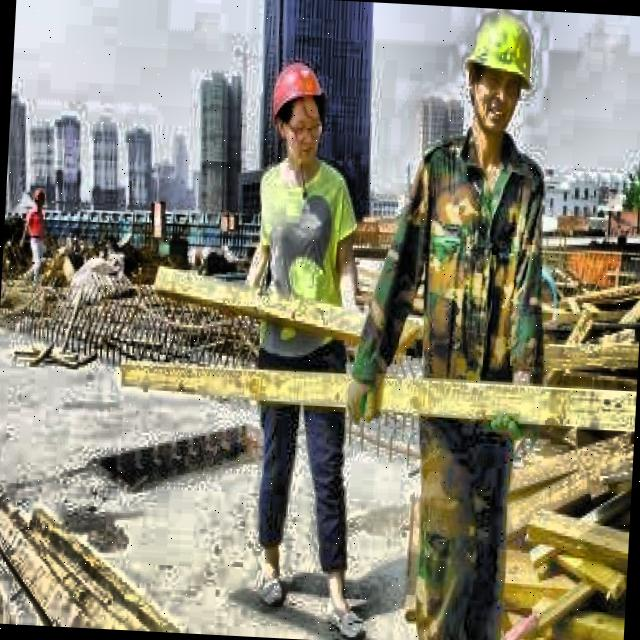helmet: (463, 14, 534, 132), (270, 57, 326, 160), (32, 183, 48, 210)
